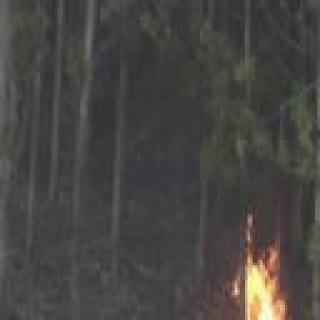fire: (182, 250, 317, 320)
